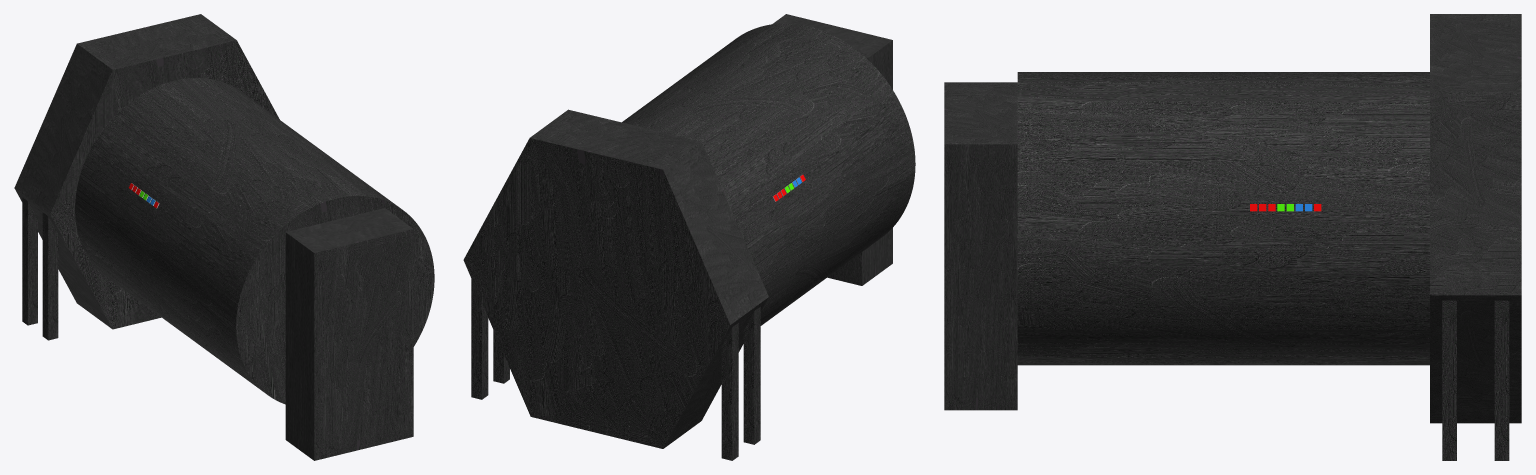
Rendered from Generator V1.fbx.
3 views of the same model, side by side, from view 1: azimuth 30°, elevation 25°; view 2: azimuth 150°, elevation 25°; view 3: azimuth 270°, elevation 25° (orthographic). The views are drawn at different scales.
Visible parts, largest first — view 1: node_id59 (×5); view 2: node_id59 (×7); view 3: node_id59 (×5).
Boxes of the visible parts, x1=… form: node_id59 (×5): x1=14, y1=14, x2=434, y2=460; node_id59 (×7): x1=463, y1=14, x2=915, y2=460; node_id59 (×5): x1=944, y1=14, x2=1521, y2=460.
Size of the model in its own units: 0.512 by 0.512 by 0.8057.
39 materials, 23 textured.
